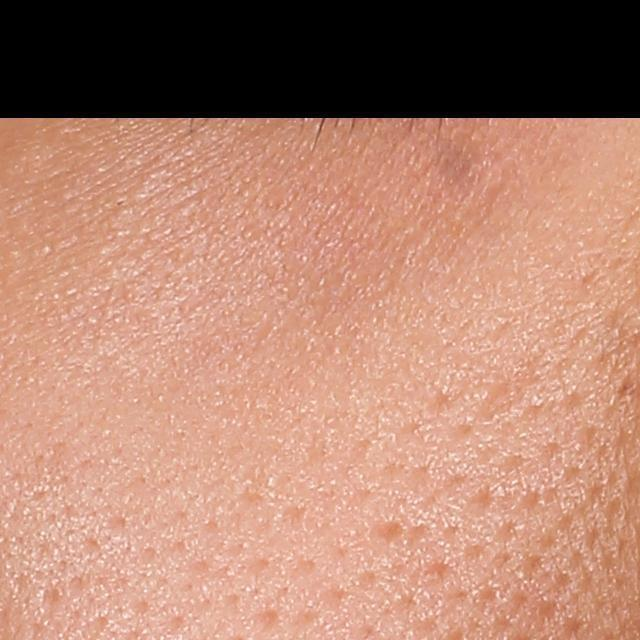atrophic_scar: (369, 513, 410, 544)
